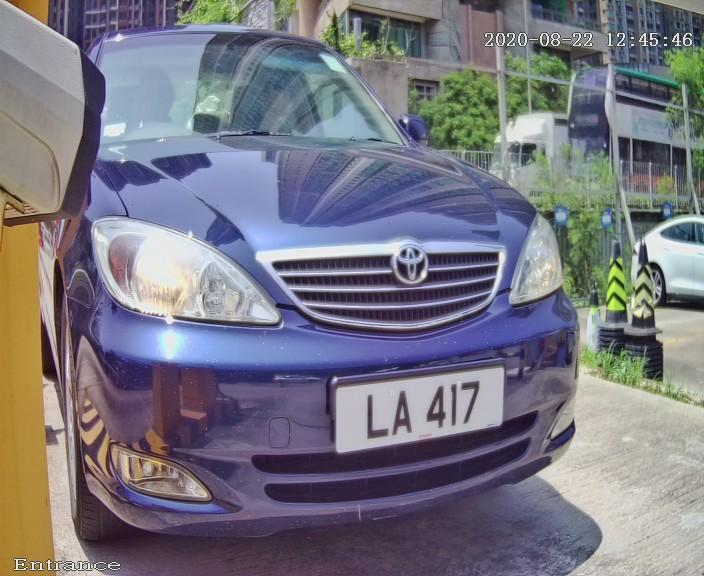Car: (10, 3, 626, 576)
License Plate: (308, 350, 517, 469)
